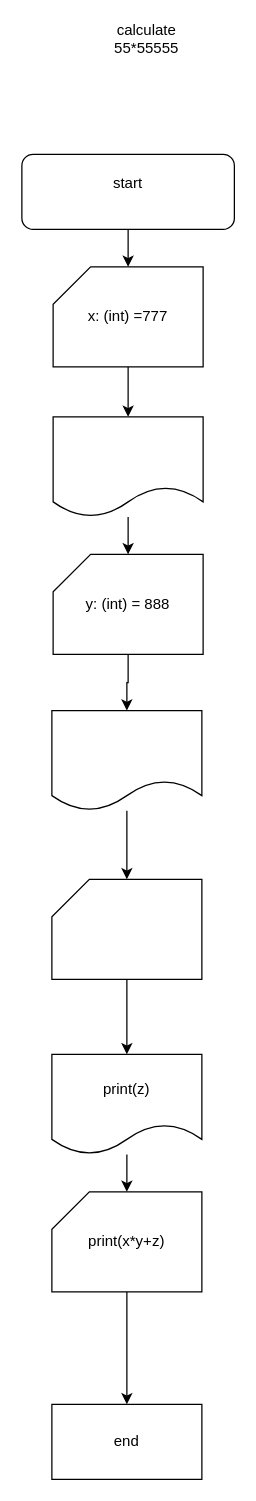
Some shapes in this 256 by 1501 pixel diagram are drawn without their labels. Here are the shapes that lost their labels. From the top down, the box of each, then its label:
(52, 416, 203, 517): print(x)
(51, 709, 202, 811): print(y)
(51, 878, 202, 979): z: (int) = 999
